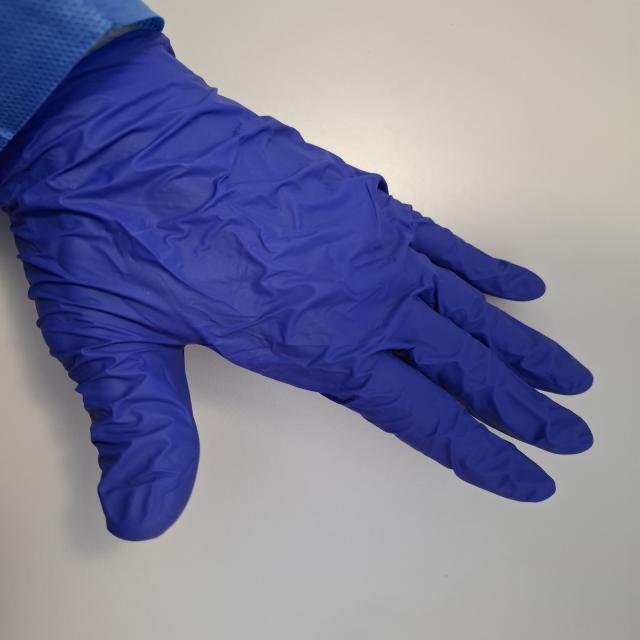glove_on: (0, 19, 601, 544)
